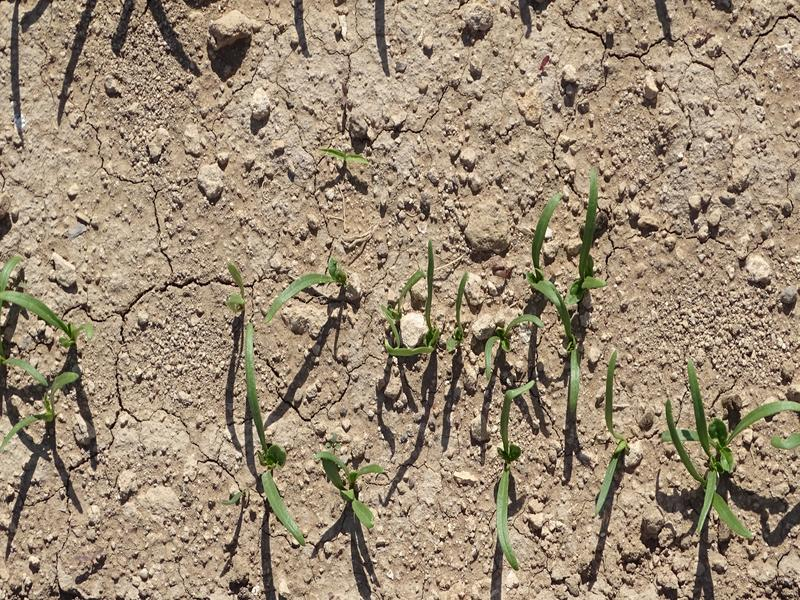Espinaca: (383, 185, 590, 433), (643, 361, 796, 549), (1, 254, 97, 442), (241, 326, 311, 546), (597, 354, 634, 513), (267, 258, 343, 318), (323, 452, 380, 522), (490, 454, 520, 566), (317, 145, 369, 167)
